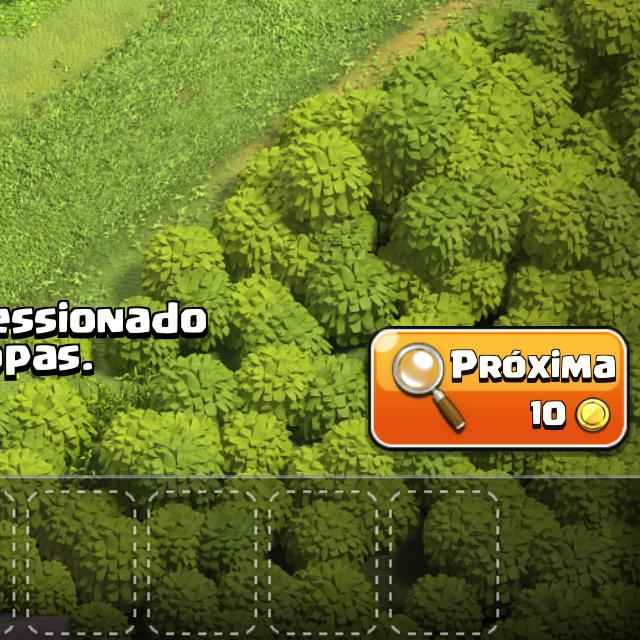Next: (369, 324, 633, 456)
